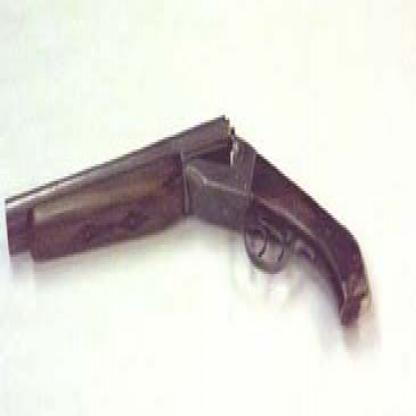gun: (1, 105, 379, 343)
